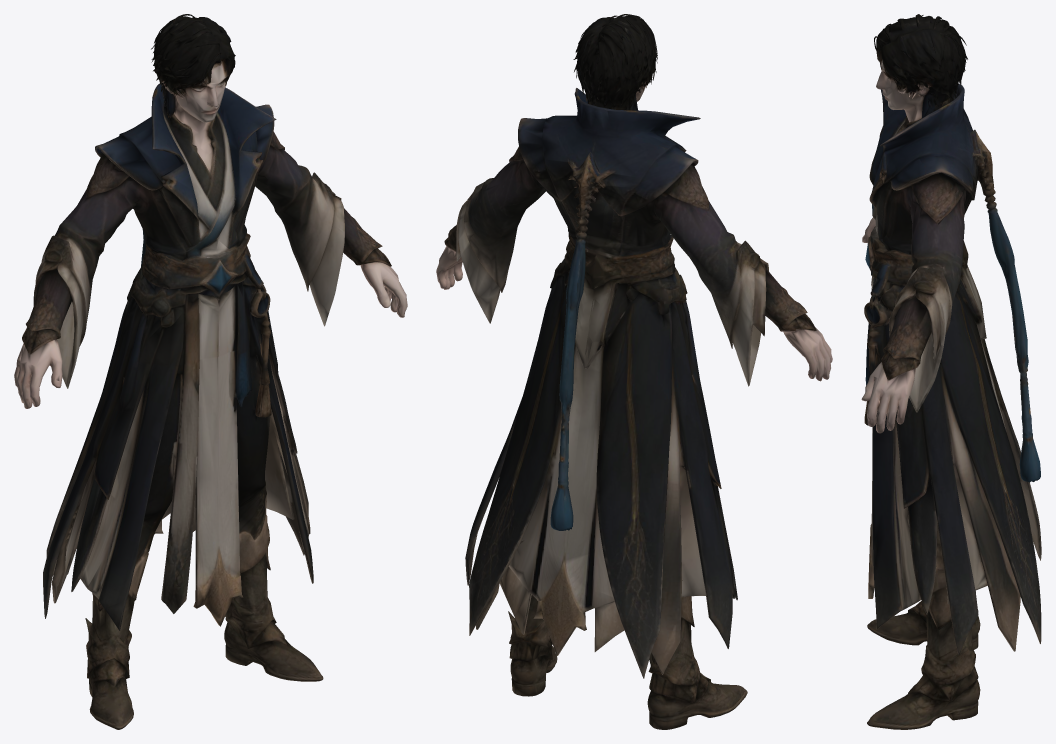
The model's file is warlock.glb.
3 renders of one model, left to right at view 1: azimuth 30°, elevation 25°; view 2: azimuth 150°, elevation 25°; view 3: azimuth 270°, elevation 25°, orthographic.
Parts seen in each view (by area): view 1: material; view 2: material; view 3: material.
Part boxes in pixels (left/top/right/bottom): material: left=14, top=14, right=407, bottom=729; material: left=436, top=14, right=832, bottom=729; material: left=861, top=14, right=1041, bottom=729.
Bounding box in the file's own units: 1.05 × 1.76 × 0.433.
1 material, 1 textured.
